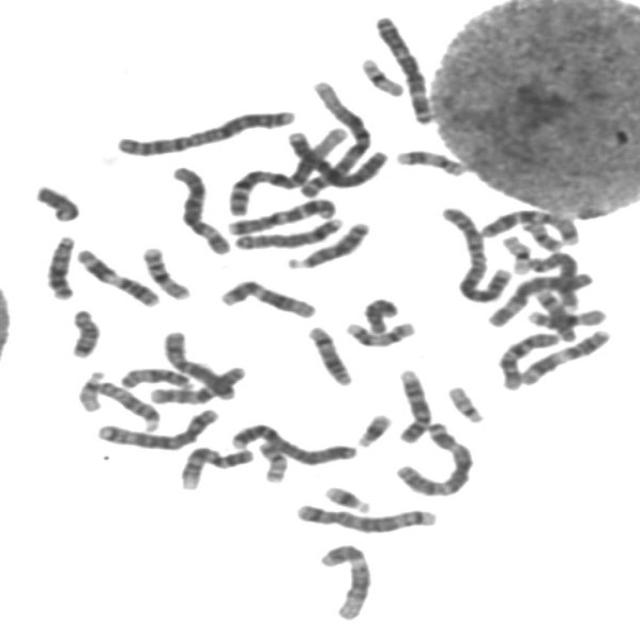A1: (222, 122, 354, 217), (293, 75, 377, 198)
A2: (110, 102, 302, 158), (435, 200, 516, 304)
A3: (369, 9, 439, 126), (389, 415, 478, 498)
B4: (280, 124, 393, 190), (224, 417, 360, 467)
B5: (92, 402, 223, 451), (290, 497, 440, 534)
C10: (492, 324, 564, 392), (143, 360, 250, 405)
C11: (69, 242, 165, 308), (515, 323, 615, 386)
C12: (314, 536, 376, 622), (214, 273, 321, 320)
C6: (482, 265, 596, 328), (166, 160, 235, 256)
C7: (222, 191, 342, 236), (474, 202, 584, 246)
C8: (227, 211, 348, 251), (521, 246, 583, 312)
C9: (173, 439, 258, 491), (392, 363, 436, 445)
D13: (282, 215, 372, 270), (41, 229, 80, 301)
D14: (302, 320, 357, 387), (529, 284, 581, 342)
D15: (90, 376, 165, 434), (114, 361, 197, 391)
E16: (136, 240, 195, 301), (525, 308, 608, 330)
E17: (391, 142, 471, 178), (339, 314, 421, 349)
E18: (64, 302, 105, 360), (358, 292, 402, 335)
F19: (354, 51, 409, 98), (497, 229, 535, 275)
F20: (517, 214, 566, 252), (254, 436, 292, 484)
G21: (318, 480, 377, 514), (351, 408, 396, 449)
G22: (442, 380, 489, 424), (73, 364, 109, 413)
X: (156, 324, 241, 402)
Y: (28, 178, 84, 223)
